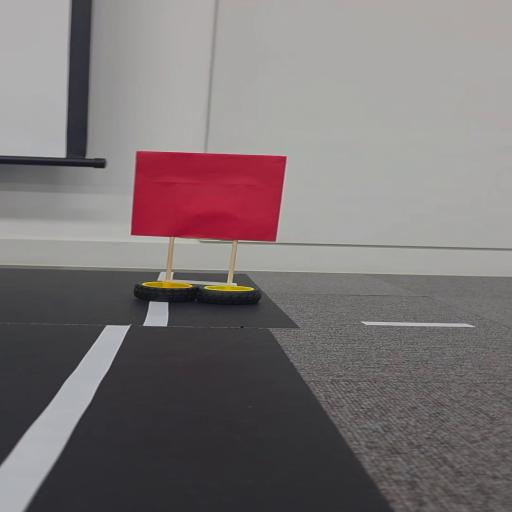Sign_A: (126, 146, 296, 306)
